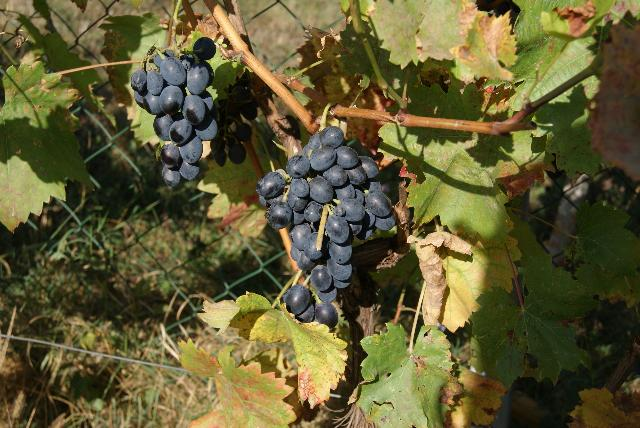grapes: (256, 126, 395, 328), (138, 38, 218, 186)
